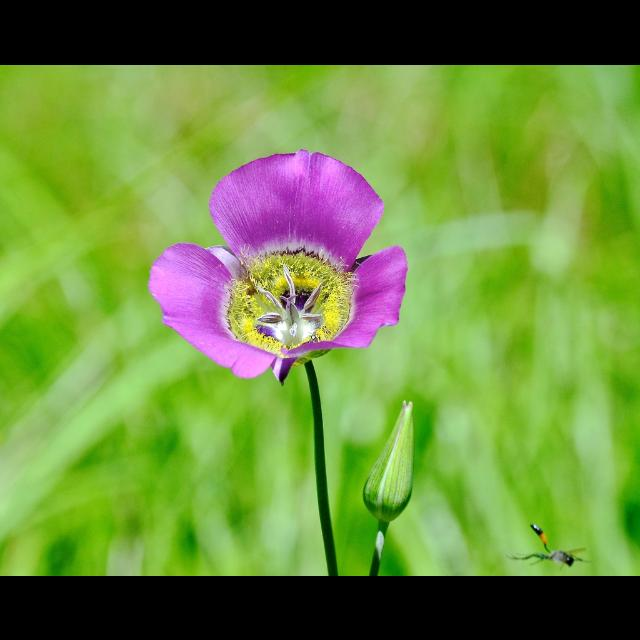Flower: (150, 146, 404, 384)
